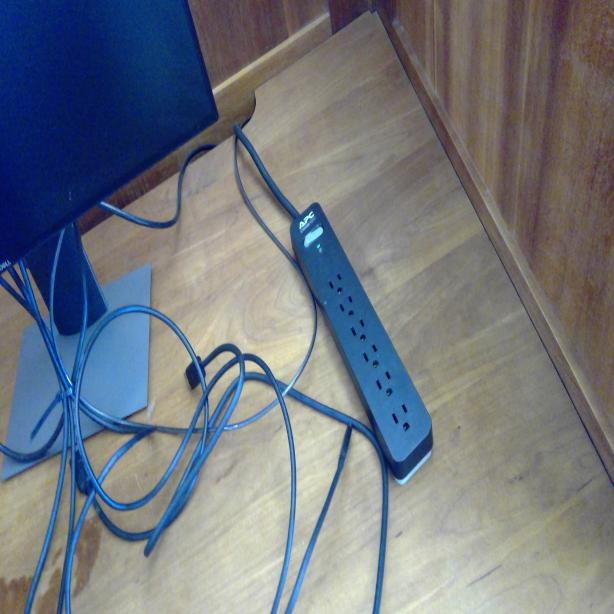typeb: (390, 396, 416, 432), (374, 368, 396, 399), (326, 268, 346, 300), (349, 316, 369, 346), (362, 343, 382, 371), (340, 296, 358, 320)
